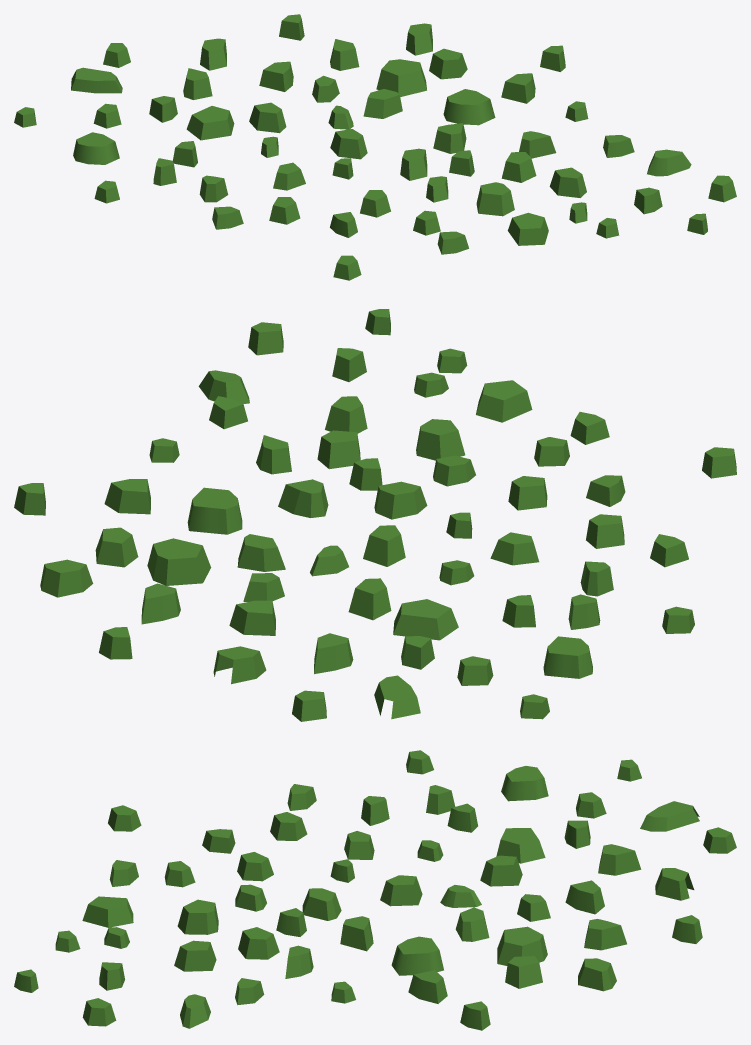
File: grass_layer_crumbs_mini_set_A.fbx
The picture shows the model from 3 angles, top to bottom: view 1: azimuth 30°, elevation 25°; view 2: azimuth 150°, elevation 25°; view 3: azimuth 270°, elevation 25°; orthographic projection. The views are drawn at different scales.
Visible parts, largest first — view 1: grass_layer_crumb_mini_C1, grass_layer_crumb_mini_D1, grass_layer_crumb_mini_B1, grass_layer_crumb_mini_C2, grass_layer_crumb_mini_A1, grass_layer_crumb_mini_B, grass_layer_crumb_mini_D2, grass_layer_crumb_spec_C4, grass_layer_crumb_spec_F1, grass_layer_crumb_spec_E1, grass_layer_crumb_spec_D3, grass_layer_crumb_spec_D1 (+35 smaller); view 2: grass_layer_crumb_mini_D1, grass_layer_crumb_mini_C1, grass_layer_crumb_mini_B1, grass_layer_crumb_mini_B, grass_layer_crumb_mini_C2, grass_layer_crumb_mini_D2, grass_layer_crumb_spec_F2, grass_layer_crumb_spec_F4, grass_layer_crumb_spec_B1, grass_layer_crumb_spec_A1, grass_layer_crumb_spec_A, grass_layer_crumb_spec_C (+37 smaller); view 3: grass_layer_crumb_mini_C1, grass_layer_crumb_mini_D1, grass_layer_crumb_mini_C2, grass_layer_crumb_mini_B, grass_layer_crumb_mini_B1, grass_layer_crumb_mini_A1, grass_layer_crumb_mini_D2, grass_layer_crumb_spec_D4, grass_layer_crumb_spec_D3, grass_layer_crumb_spec_D1, grass_layer_crumb_spec_C, grass_layer_crumb_spec_B3 (+35 smaller).
Boxes of the visible parts, x1=… form: grass_layer_crumb_mini_C1: x1=443, y1=89, x2=495, y2=125; grass_layer_crumb_mini_D1: x1=376, y1=59, x2=426, y2=96; grass_layer_crumb_mini_B1: x1=186, y1=106, x2=234, y2=140; grass_layer_crumb_mini_C2: x1=73, y1=132, x2=119, y2=164; grass_layer_crumb_mini_A1: x1=71, y1=67, x2=122, y2=93; grass_layer_crumb_mini_B: x1=507, y1=212, x2=548, y2=245; grass_layer_crumb_mini_D2: x1=476, y1=182, x2=514, y2=216; grass_layer_crumb_spec_C4: x1=429, y1=48, x2=467, y2=79; grass_layer_crumb_spec_F1: x1=363, y1=89, x2=402, y2=118; grass_layer_crumb_spec_E1: x1=647, y1=149, x2=691, y2=176; grass_layer_crumb_spec_D3: x1=330, y1=129, x2=367, y2=159; grass_layer_crumb_spec_D1: x1=549, y1=167, x2=586, y2=197; grass_layer_crumb_mini_D1: x1=147, y1=538, x2=211, y2=585; grass_layer_crumb_mini_C1: x1=187, y1=487, x2=242, y2=534; grass_layer_crumb_mini_B1: x1=393, y1=599, x2=458, y2=640; grass_layer_crumb_mini_B: x1=476, y1=380, x2=532, y2=422; grass_layer_crumb_mini_C2: x1=543, y1=636, x2=592, y2=678; grass_layer_crumb_mini_D2: x1=416, y1=419, x2=465, y2=460; grass_layer_crumb_spec_F2: x1=40, y1=559, x2=93, y2=597; grass_layer_crumb_spec_F4: x1=374, y1=481, x2=427, y2=519; grass_layer_crumb_spec_B1: x1=278, y1=479, x2=328, y2=517; grass_layer_crumb_spec_A1: x1=229, y1=600, x2=275, y2=635; grass_layer_crumb_spec_A: x1=104, y1=479, x2=150, y2=514; grass_layer_crumb_spec_C: x1=317, y1=430, x2=360, y2=469; grass_layer_crumb_mini_C1: x1=391, y1=936, x2=443, y2=975; grass_layer_crumb_mini_D1: x1=497, y1=926, x2=547, y2=965; grass_layer_crumb_mini_C2: x1=501, y1=766, x2=548, y2=801; grass_layer_crumb_mini_B: x1=82, y1=896, x2=133, y2=927; grass_layer_crumb_mini_B1: x1=496, y1=828, x2=545, y2=863; grass_layer_crumb_mini_A1: x1=640, y1=801, x2=699, y2=831; grass_layer_crumb_mini_D2: x1=177, y1=899, x2=218, y2=934; grass_layer_crumb_spec_D4: x1=480, y1=855, x2=522, y2=886; grass_layer_crumb_spec_D3: x1=380, y1=875, x2=422, y2=906; grass_layer_crumb_spec_D1: x1=174, y1=940, x2=216, y2=971; grass_layer_crumb_spec_C: x1=238, y1=927, x2=279, y2=959; grass_layer_crumb_spec_B3: x1=598, y1=844, x2=641, y2=875.
Size of the model in its own units: 477 by 19.27 by 553.
